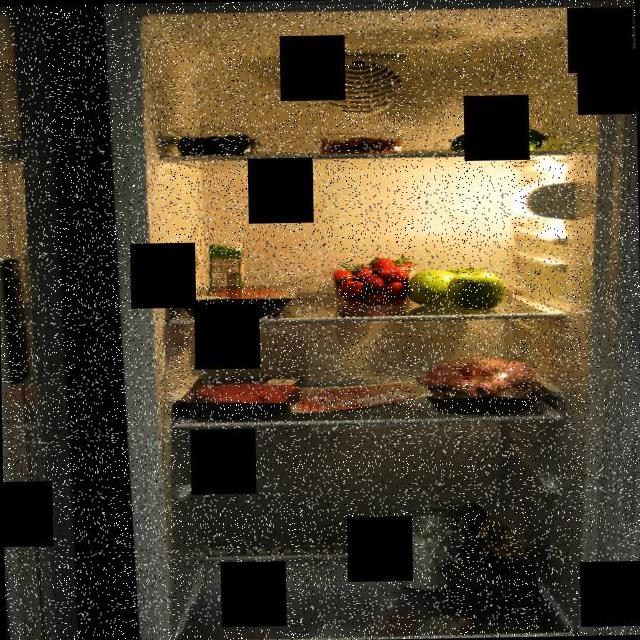Carne cerdo: (292, 381, 432, 413)
Carne pollo: (419, 352, 550, 418)
Carne vacuno: (176, 282, 303, 317), (190, 376, 294, 410)
Gambas/Langostinos: (318, 138, 402, 157)
Manzana: (412, 262, 507, 314)
blueberries: (178, 130, 260, 158)
heavy_cream: (208, 239, 248, 288)
spinach: (433, 498, 549, 628)
strawberries: (331, 257, 416, 303)
sugar: (396, 504, 460, 590)
